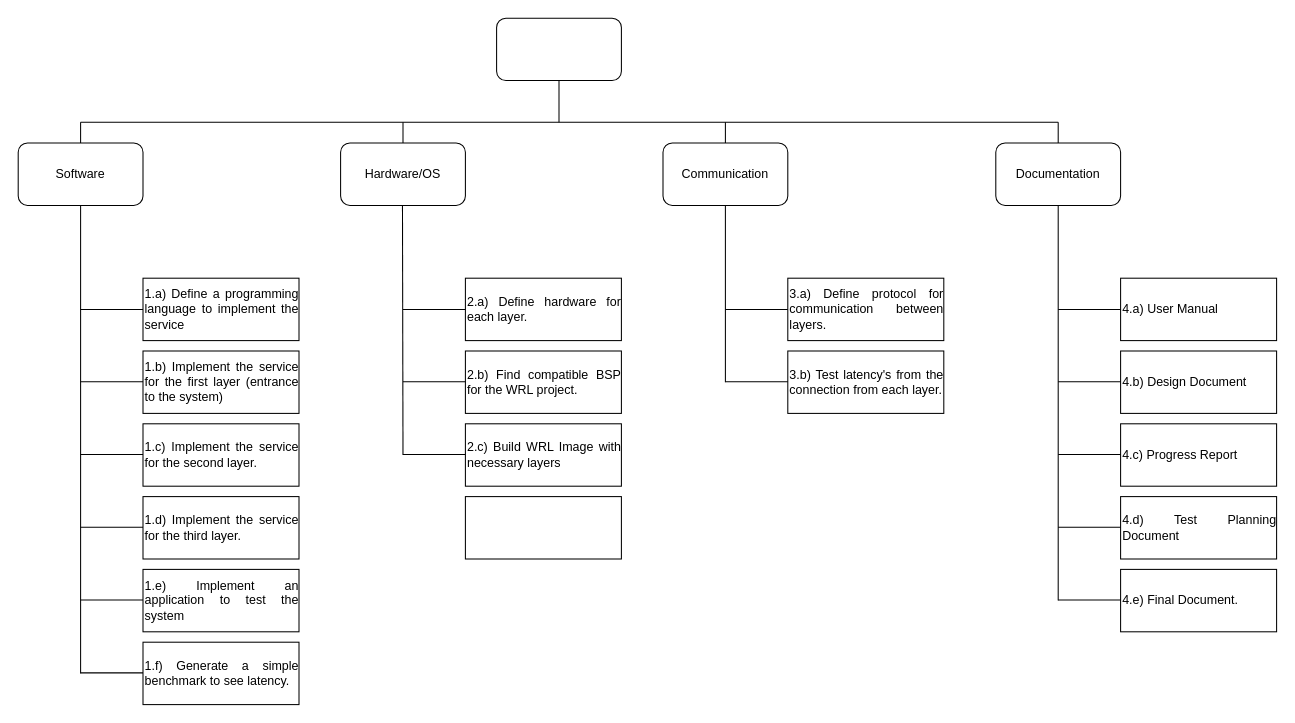
This 1295x723 diagram has some shape labels left out. Each missing label, with the box of its shape:
2.d) Install OSs on hardware.: (464, 496, 621, 559)
Cloud Edge Computing System: (496, 17, 621, 81)
